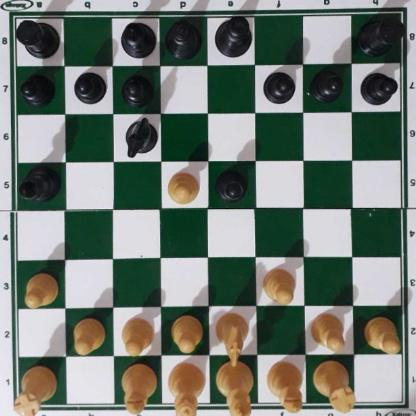black-bishop: (16, 165, 62, 202), (118, 19, 158, 56)
black-king: (213, 12, 253, 55)
black-knight: (123, 115, 156, 154)
black-pawn: (360, 69, 396, 105), (214, 166, 247, 201), (262, 69, 295, 103), (20, 72, 54, 104), (311, 67, 343, 101), (73, 70, 104, 104), (122, 71, 152, 105)
black-queen: (164, 17, 202, 57)
black-rook: (12, 15, 60, 58), (358, 10, 402, 56)
white-bishop: (265, 361, 302, 411), (121, 360, 155, 413)
white-king: (215, 357, 253, 414)
white-knight: (214, 310, 250, 368)
white-pawn: (363, 315, 400, 352), (21, 271, 58, 307), (70, 315, 105, 353), (120, 315, 153, 355), (261, 266, 295, 304), (169, 313, 202, 351), (166, 170, 199, 204)
white-queen: (166, 360, 204, 416)
white-rook: (15, 360, 55, 416), (313, 363, 354, 409)
